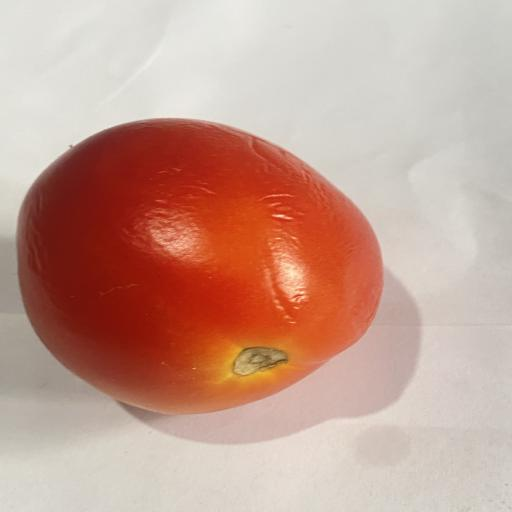spoiled: (16, 118, 383, 414)
